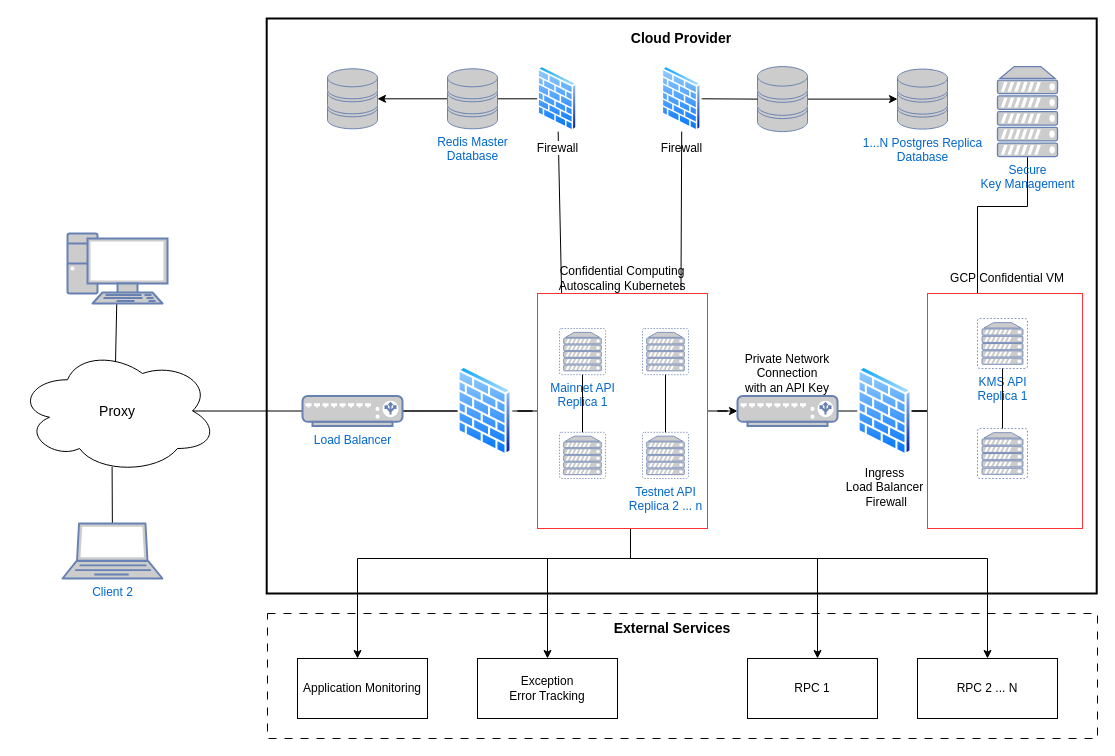
Some shapes in this 1115 by 756 pixel diagram are drawn without their labels. Here are the shapes that lost their labels. From the top down, the centre of each, then its label:
the point at 352,98: 1...N Redis Replica Database
the point at 782,98: Postgres Master Database
the point at 117,268: Client 1
the point at 665,351: Testnet API Replica 1
the point at 484,411: Ingress Firewall
the point at 787,410: KMS Service Load Balancer
the point at 582,455: Mainnet API Replica 2 ... n
the point at 1002,453: KMS API Replica 2 ... n
